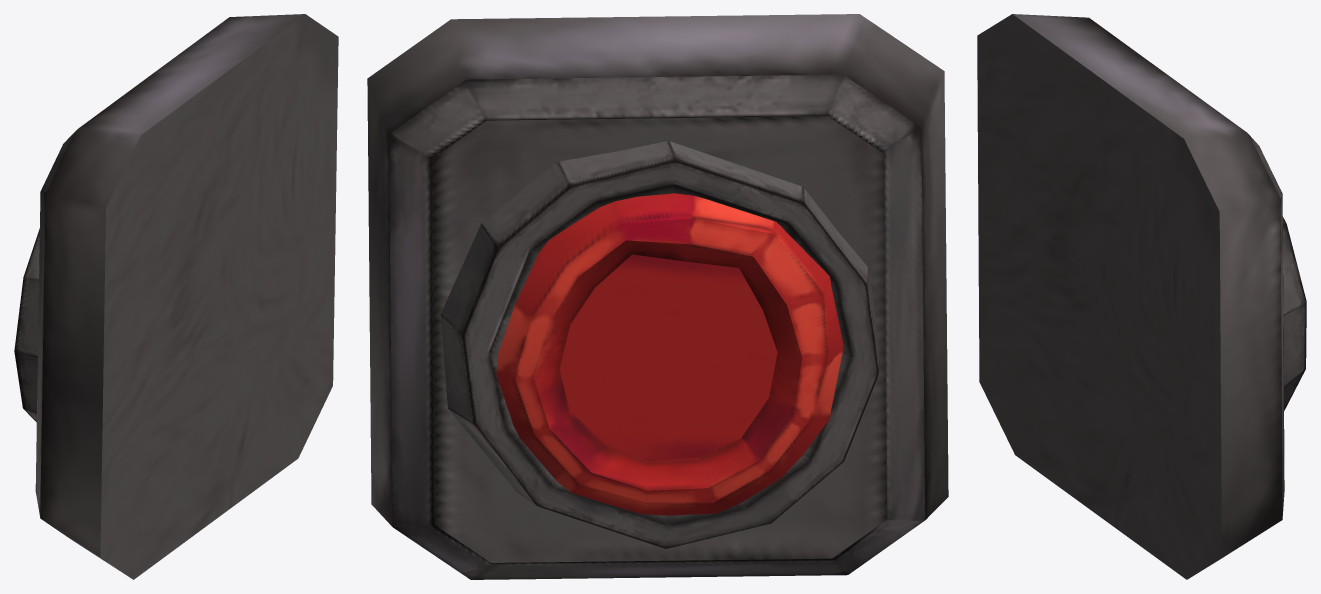
The model's file is teapot_detal.fbx.
3 views of the same model, side by side, from view 1: azimuth 30°, elevation 25°; view 2: azimuth 150°, elevation 25°; view 3: azimuth 270°, elevation 25° (orthographic). The views are drawn at different scales.
Parts seen in each view (by area): view 1: BASE.007, BASE.006; view 2: BASE.007, red, BASE.006; view 3: BASE.007, BASE.006.
Part boxes in pixels (x1,y1,x2,y2): BASE.007: [35, 14, 338, 579]; BASE.006: [14, 228, 39, 421]; BASE.007: [367, 14, 948, 579]; red: [496, 193, 843, 515]; BASE.006: [440, 141, 879, 548]; BASE.007: [977, 14, 1284, 579]; BASE.006: [1282, 216, 1306, 410].
Size of the model in its own units: 31.78 by 23.95 by 35.81.
1 material, 1 textured.
